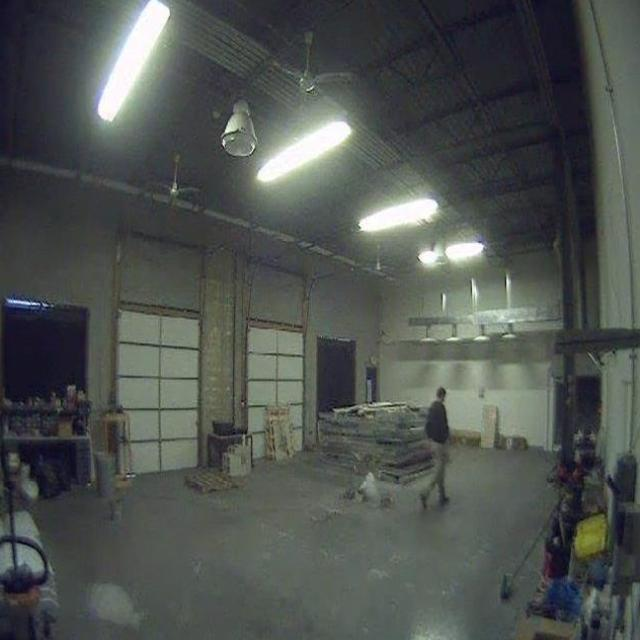fire: (356, 470, 384, 503)
